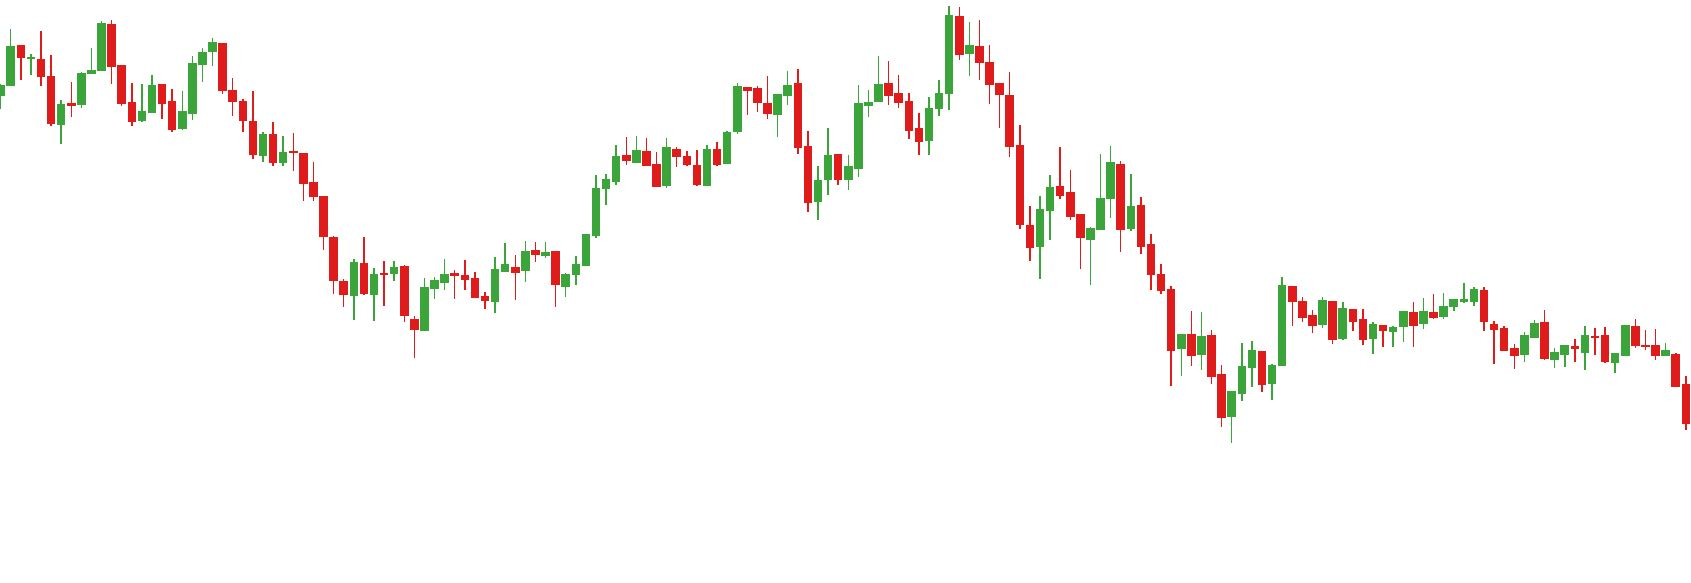buy: (692, 109, 825, 227), (1161, 316, 1247, 450), (348, 253, 431, 363), (509, 250, 572, 314)
sell: (872, 6, 966, 116), (35, 15, 118, 100), (1066, 138, 1129, 244)
